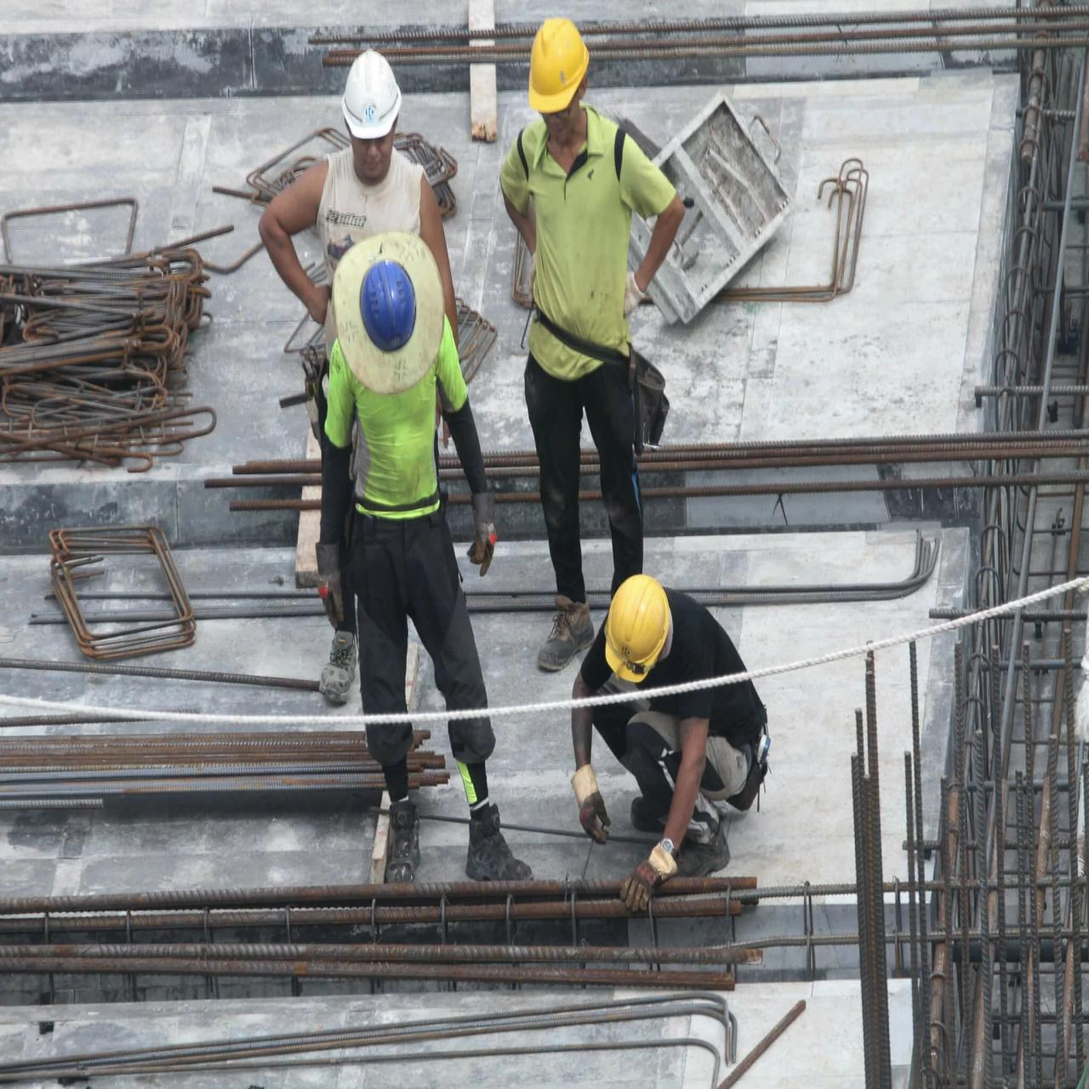NO_Safety_Vest: (492, 109, 665, 357), (291, 148, 433, 355), (324, 355, 468, 536), (654, 586, 774, 796)
Person: (275, 214, 556, 924), (247, 32, 478, 716), (475, 8, 702, 691), (540, 561, 807, 922)
